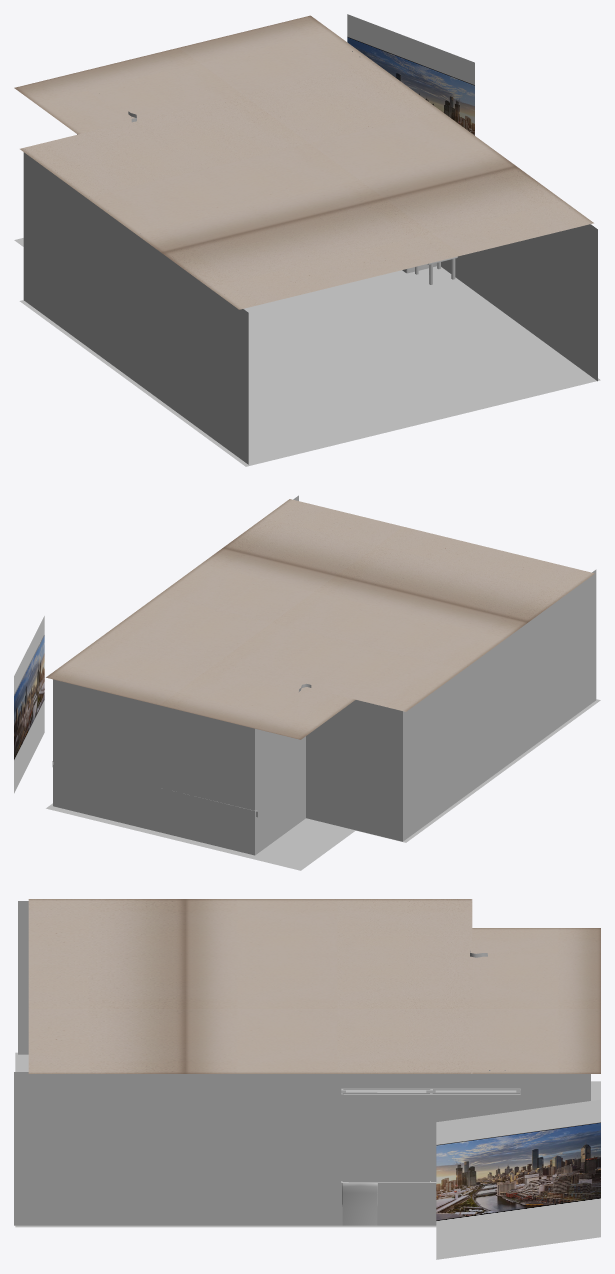
The model's file is SiZheBingFang_01.FBX.
3 views of the same model, one above another, from view 1: azimuth 30°, elevation 25°; view 2: azimuth 150°, elevation 25°; view 3: azimuth 270°, elevation 25° (orthographic). The views are drawn at different scales.
Visible parts, largest first — view 1: Object031, SiZheBingFang_wujian_04, SiZheBingFang_wujian_03, Plane001; view 2: Object031, SiZheBingFang_wujian_04, SiZheBingFang_wujian_03, Plane001; view 3: Object031, SiZheBingFang_wujian_04, Plane001, SiZheBingFang_wujian_03, Object032, SiZheBingFang_wujian_02.
Part boxes in pixels (left/top/right/bottom): Object031: left=14, top=15, right=593, bottom=309; SiZheBingFang_wujian_04: left=23, top=134, right=597, bottom=464; SiZheBingFang_wujian_03: left=14, top=51, right=600, bottom=466; Plane001: left=347, top=14, right=474, bottom=135; Object031: left=46, top=499, right=594, bottom=739; SiZheBingFang_wujian_04: left=52, top=495, right=596, bottom=855; SiZheBingFang_wujian_03: left=46, top=643, right=600, bottom=870; Plane001: left=14, top=616, right=44, bottom=793; Object031: left=28, top=899, right=600, bottom=1073; SiZheBingFang_wujian_04: left=14, top=901, right=590, bottom=1225; Plane001: left=436, top=1099, right=600, bottom=1259; SiZheBingFang_wujian_03: left=15, top=951, right=600, bottom=1227; Object032: left=432, top=1092, right=519, bottom=1181; SiZheBingFang_wujian_02: left=342, top=1183, right=377, bottom=1225.
Size of the model in its own units: 5842 by 1998 by 6725.
